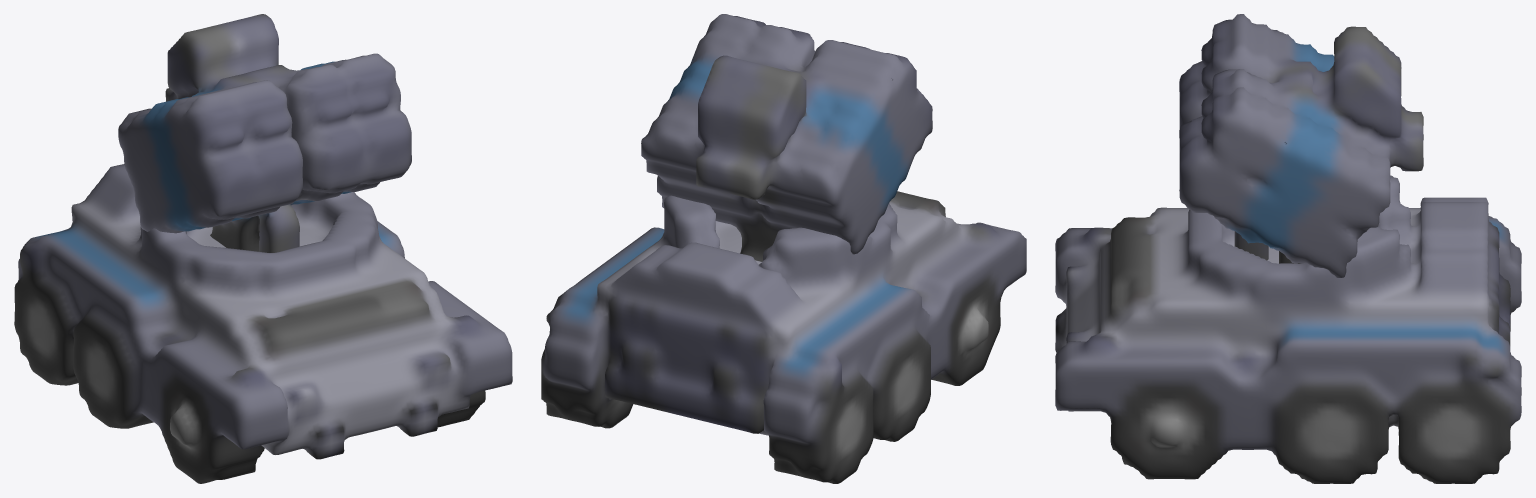
3 views of the same model, side by side, from view 1: azimuth 30°, elevation 25°; view 2: azimuth 150°, elevation 25°; view 3: azimuth 270°, elevation 25° (orthographic). The views are drawn at different scales.
Parts seen in each view (by area): view 1: fv; view 2: fv; view 3: fv.
Boxes of the visible parts, left/top/right/bottom form: fv: left=14, top=14, right=512, bottom=483; fv: left=541, top=14, right=1026, bottom=483; fv: left=1055, top=14, right=1521, bottom=483.
Bounding box in the file's own units: 2.59 × 3.01 × 3.49.
